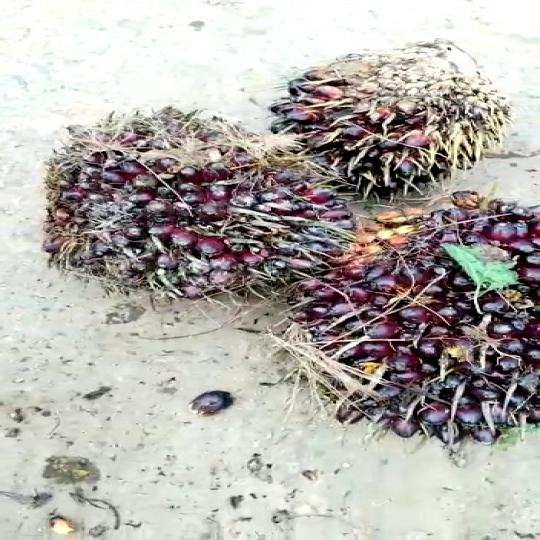kurang masak: (268, 194, 540, 449), (53, 103, 338, 298), (271, 36, 538, 180)
